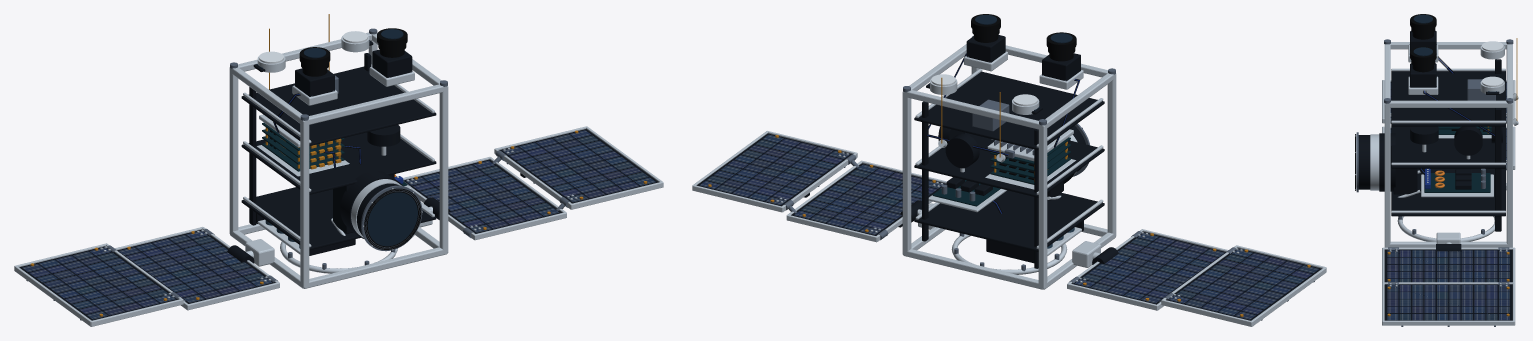
Rendered from SLX_OrbitLab_Spacecraft_Cutaway.glb.
3 views of the same model, side by side, from view 1: azimuth 30°, elevation 25°; view 2: azimuth 150°, elevation 25°; view 3: azimuth 270°, elevation 25° (orthographic). The views are drawn at different scales.
Parts seen in each view (by area): view 1: Solar_Left_Outer_photovoltaic_cells, Solar_Right_Outer_photovoltaic_cells, Solar_Left_Inner_photovoltaic_cells, Avionics_deck.002, Solar_Right_Inner_photovoltaic_cells, Avionics_deck.001, Avionics_deck, Optical_glass, Frame_corner, Frame_corner.002, Frame_corner.001, Frame_cross_X.002 (+22 smaller); view 2: Solar_Left_Outer_photovoltaic_cells, Solar_Right_Outer_photovoltaic_cells, Solar_Left_Inner_photovoltaic_cells, Avionics_deck.002, Avionics_deck, Solar_Right_Inner_photovoltaic_cells, Avionics_deck.001, Frame_corner.001, Frame_corner.003, Frame_corner, Frame_cross_X.001, Frame_cross_X.003 (+24 smaller); view 3: Solar_Right_Outer_photovoltaic_cells, Solar_Right_Inner_photovoltaic_cells, Avionics_deck.002, Avionics_deck.001, Avionics_deck, Frame_corner.002, Frame_corner.003, Frame_cross_Y.003, EPS_board, Solar_Right_Outer_edge_x.001, Harness_raceway.001, Wheel_motor_housing.001 (+41 smaller).
Boxes of the visible parts, box(x1,y1,x2,y2) form: Solar_Left_Outer_photovoltaic_cells: box(21, 247, 176, 319); Solar_Right_Outer_photovoltaic_cells: box(501, 130, 656, 202); Solar_Left_Inner_photovoltaic_cells: box(118, 230, 272, 303); Avionics_deck.002: box(241, 66, 436, 146); Solar_Right_Inner_photovoltaic_cells: box(405, 160, 560, 233); Avionics_deck.001: box(241, 132, 436, 194); Avionics_deck: box(241, 187, 436, 250); Optical_glass: box(367, 192, 417, 246); Frame_corner: box(300, 120, 309, 288); Frame_corner.002: box(439, 86, 448, 253); Frame_corner.001: box(229, 67, 238, 234); Frame_cross_X.002: box(304, 84, 447, 124); Solar_Left_Outer_photovoltaic_cells: box(1168, 249, 1319, 319); Solar_Right_Outer_photovoltaic_cells: box(699, 134, 850, 205); Solar_Left_Inner_photovoltaic_cells: box(1074, 232, 1225, 303); Avionics_deck.002: box(914, 71, 1104, 150); Avionics_deck: box(914, 190, 1104, 251); Solar_Right_Inner_photovoltaic_cells: box(793, 164, 944, 235); Avionics_deck.001: box(914, 132, 1104, 197); Frame_corner.001: box(1038, 125, 1047, 288); Frame_corner.003: box(902, 91, 911, 254); Frame_corner: box(1107, 73, 1116, 236); Frame_cross_X.001: box(903, 249, 1043, 289); Frame_cross_X.003: box(903, 89, 1043, 129); Solar_Right_Outer_photovoltaic_cells: box(1386, 284, 1510, 320); Solar_Right_Inner_photovoltaic_cells: box(1386, 250, 1510, 282); Avionics_deck.002: box(1391, 71, 1505, 126); Avionics_deck.001: box(1391, 126, 1505, 168); Avionics_deck: box(1391, 168, 1505, 216); Frame_corner.002: box(1384, 103, 1390, 247); Frame_corner.003: box(1506, 103, 1512, 247); Frame_cross_Y.003: box(1385, 100, 1511, 107); EPS_board: box(1424, 173, 1490, 192); Solar_Right_Outer_edge_x.001: box(1382, 320, 1514, 325); Harness_raceway.001: box(1495, 108, 1501, 231); Wheel_motor_housing.001: box(1454, 126, 1482, 155).
Size of the model in its own units: 5.19 by 1.88 by 1.49.
12 materials, 1 textured.
